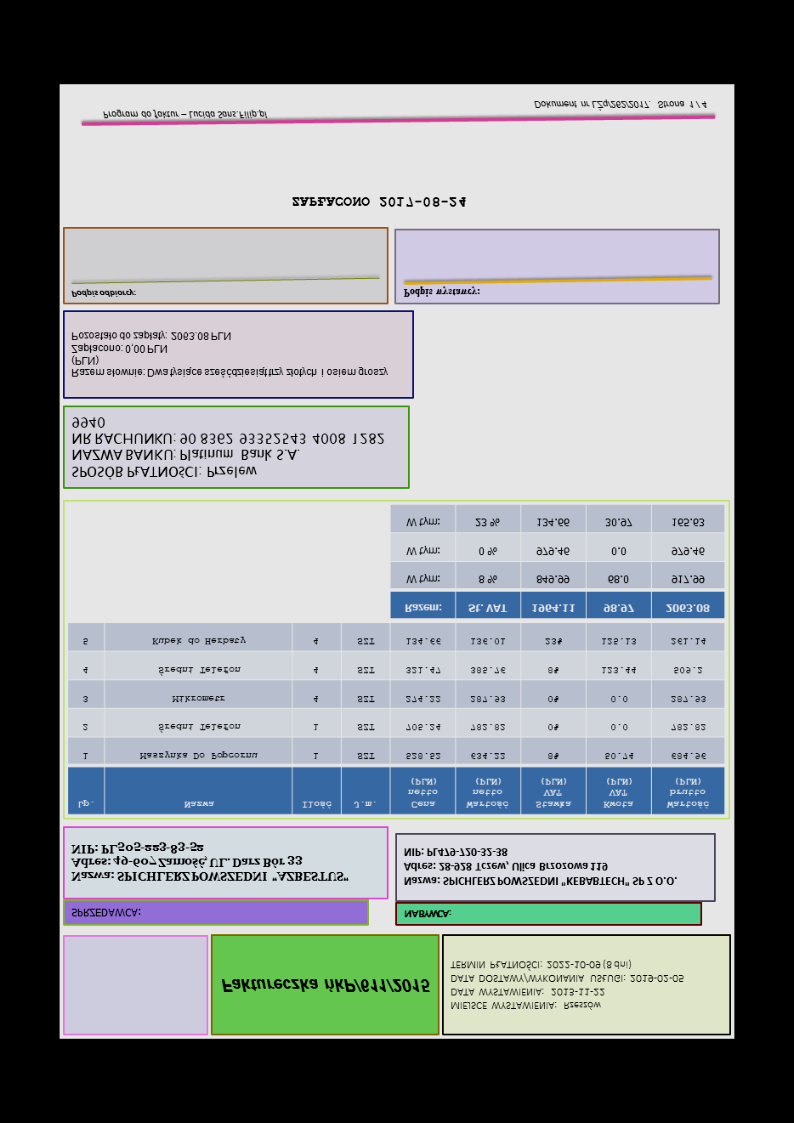Table: (65, 621, 727, 817), (387, 503, 728, 621)
TextBox: (68, 412, 390, 484), (68, 328, 394, 382), (447, 955, 690, 1016), (400, 842, 683, 892), (68, 837, 350, 887), (218, 972, 433, 999), (529, 94, 712, 115), (289, 192, 469, 211), (98, 105, 271, 124), (400, 281, 483, 303), (65, 283, 137, 304), (66, 904, 142, 923), (400, 905, 453, 923)
